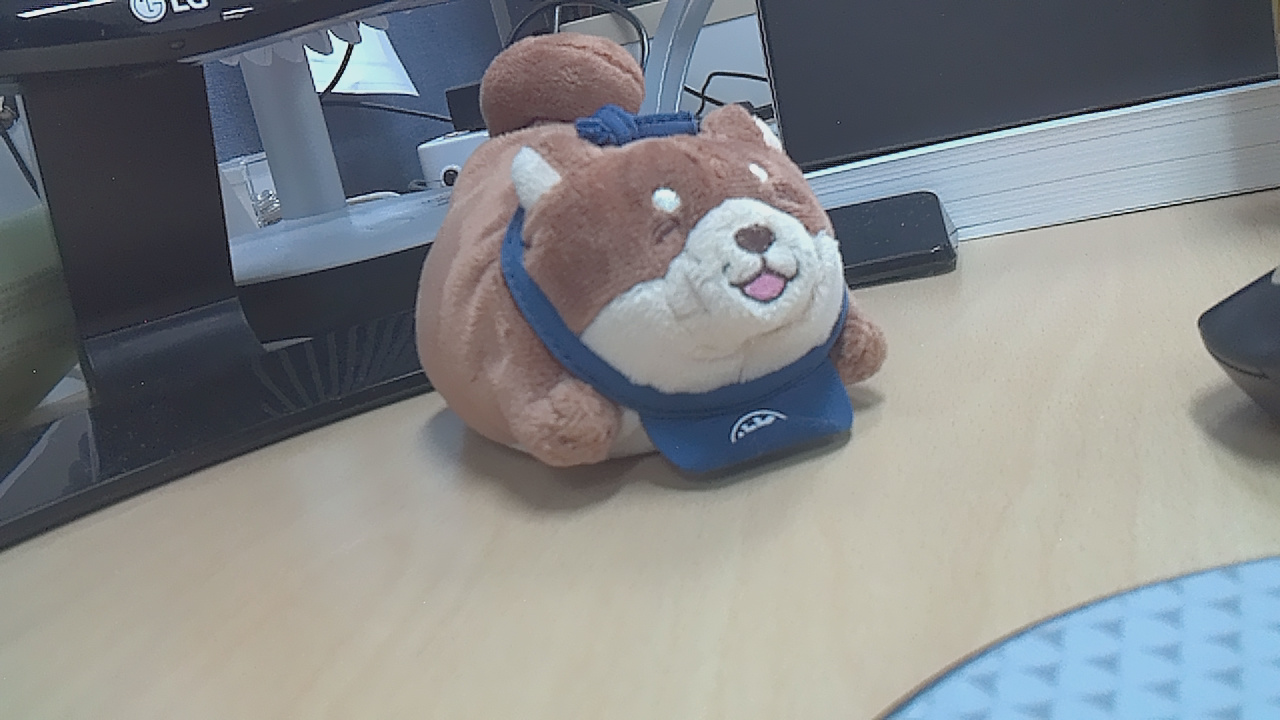cuteDog: (336, 33, 923, 485)
